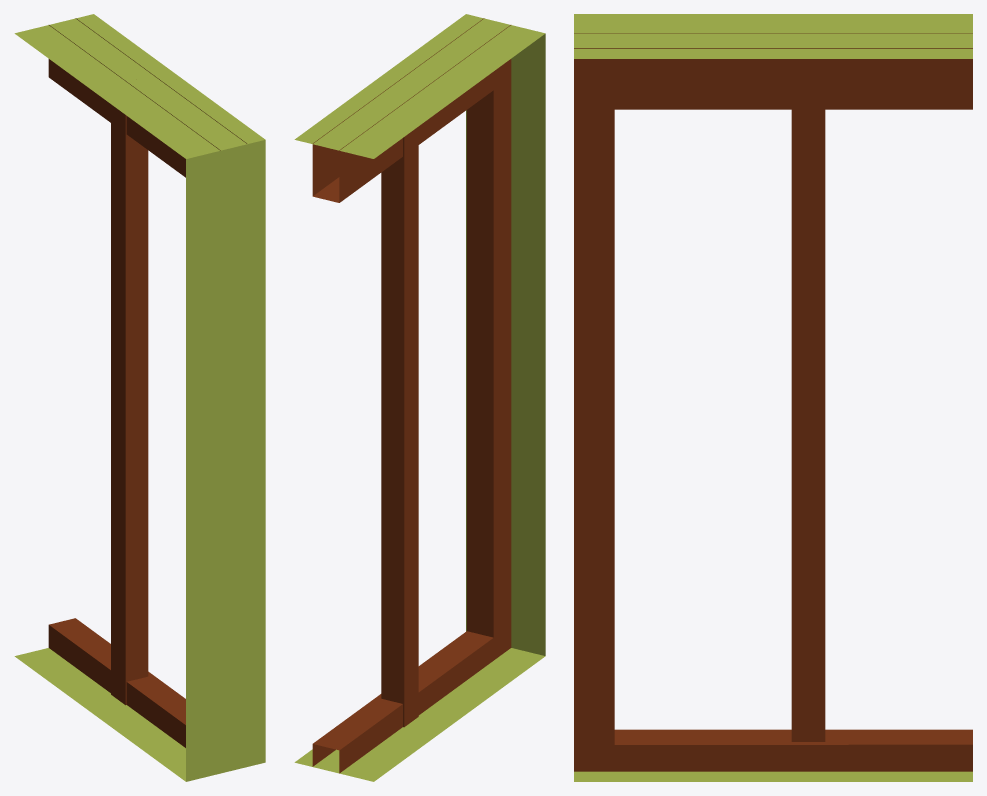
File: ModuleSc_A_Win_Frame_2.FBX
3 views of the same model, side by side, from view 1: azimuth 30°, elevation 25°; view 2: azimuth 150°, elevation 25°; view 3: azimuth 270°, elevation 25° (orthographic). The views are drawn at different scales.
Visible parts, largest first — view 1: ModuleSc_A_wallwin_side_04, ModuleSc_A_wallwin_side_05, ModuleSc_A_frame_win_10, ModuleSc_A_frame_win_07, ModuleSc_A_frame_win_01, ModuleSc_A_wallwin_side_03, ModuleSc_A_frame_win_03; view 2: ModuleSc_A_frame_win_02, ModuleSc_A_wallwin_side_04, ModuleSc_A_wallwin_side_05, ModuleSc_A_frame_win_10, ModuleSc_A_frame_win_07, ModuleSc_A_frame_win_01, ModuleSc_A_wallwin_side_03, ModuleSc_A_frame_win_03; view 3: ModuleSc_A_frame_win_02, ModuleSc_A_frame_win_03, ModuleSc_A_wallwin_side_05, ModuleSc_A_frame_win_01, ModuleSc_A_frame_win_10, ModuleSc_A_frame_win_07, ModuleSc_A_wallwin_side_03.
Boxes of the visible parts, bbox=[...] form: ModuleSc_A_wallwin_side_04: bbox=[186, 140, 265, 781]; ModuleSc_A_wallwin_side_05: bbox=[14, 14, 265, 158]; ModuleSc_A_frame_win_10: bbox=[111, 383, 148, 705]; ModuleSc_A_frame_win_07: bbox=[111, 104, 148, 393]; ModuleSc_A_frame_win_01: bbox=[48, 618, 185, 747]; ModuleSc_A_wallwin_side_03: bbox=[14, 648, 185, 781]; ModuleSc_A_frame_win_03: bbox=[48, 18, 246, 177]; ModuleSc_A_frame_win_02: bbox=[467, 59, 511, 647]; ModuleSc_A_wallwin_side_04: bbox=[466, 33, 545, 655]; ModuleSc_A_wallwin_side_05: bbox=[294, 14, 545, 158]; ModuleSc_A_frame_win_10: bbox=[381, 405, 418, 727]; ModuleSc_A_frame_win_07: bbox=[381, 126, 418, 415]; ModuleSc_A_frame_win_01: bbox=[312, 631, 510, 773]; ModuleSc_A_wallwin_side_03: bbox=[294, 648, 545, 781]; ModuleSc_A_frame_win_03: bbox=[312, 18, 510, 202]; ModuleSc_A_frame_win_02: bbox=[574, 59, 614, 771]; ModuleSc_A_frame_win_03: bbox=[574, 33, 972, 109]; ModuleSc_A_wallwin_side_05: bbox=[574, 14, 972, 58]; ModuleSc_A_frame_win_01: bbox=[574, 729, 972, 771]; ModuleSc_A_frame_win_10: bbox=[791, 407, 825, 741]; ModuleSc_A_frame_win_07: bbox=[791, 109, 825, 407]; ModuleSc_A_wallwin_side_03: bbox=[574, 771, 972, 781].
Size of the model in its own units: 10.53 by 78.8 by 39.37.
